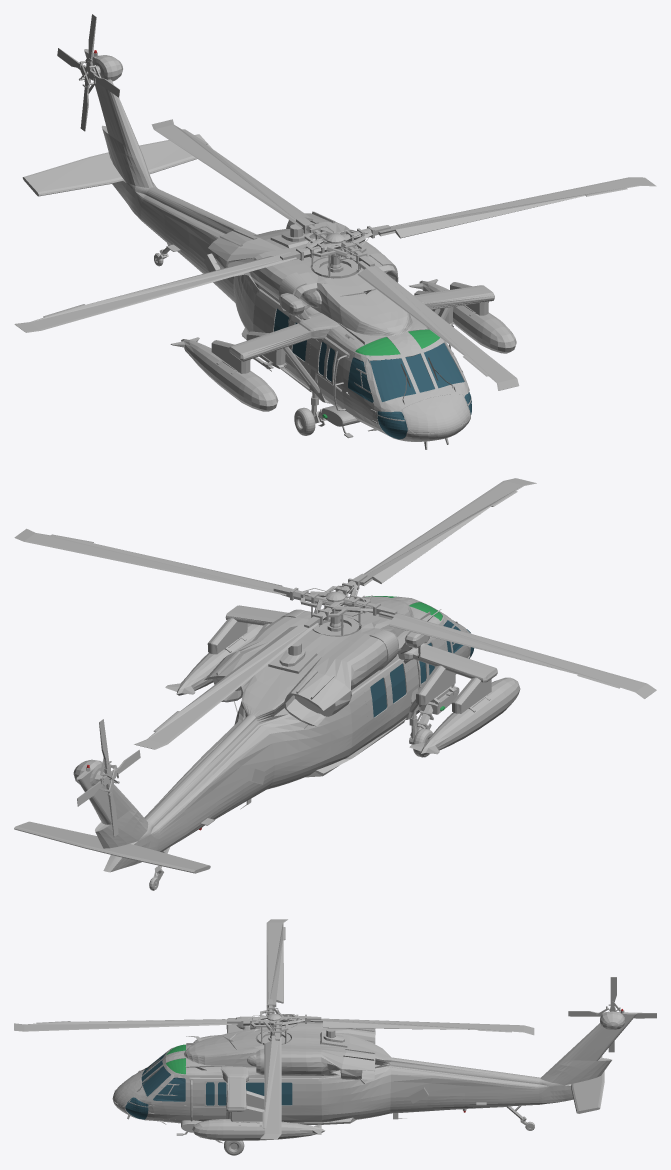
The model's file is blackhawk.fbx.
3 views of the same model, one above another, from view 1: azimuth 30°, elevation 25°; view 2: azimuth 150°, elevation 25°; view 3: azimuth 270°, elevation 25° (orthographic). The views are drawn at different scales.
Parts seen in each view (by area): view 1: fuselage, main_rotor, elevator, cabinDoor_, rear_rotor, Door_R; view 2: fuselage, main_rotor, Door_R, elevator, rear_rotor; view 3: fuselage, main_rotor, cabinDoo13, Door_L, elevator, rear_rotor.
Boxes of the visible parts, left/top/right/bottom form: fuselage: left=84, top=49, right=516, bottom=449; main_rotor: left=14, top=119, right=656, bottom=390; elevator: left=22, top=134, right=212, bottom=196; cabinDoor_: left=345, top=353, right=379, bottom=429; rear_rotor: left=57, top=14, right=119, bottom=131; Door_R: left=267, top=303, right=311, bottom=387; fuselage: left=73, top=593, right=520, bottom=885; main_rotor: left=14, top=478, right=656, bottom=749; Door_R: left=361, top=661, right=410, bottom=747; elevator: left=14, top=821, right=210, bottom=873; rear_rotor: left=77, top=719, right=140, bottom=836; fuselage: left=112, top=1009, right=637, bottom=1143; main_rotor: left=14, top=919, right=534, bottom=1139; cabinDoo13: left=149, top=1075, right=189, bottom=1120; Door_L: left=246, top=1081, right=300, bottom=1122; elevator: left=571, top=1056, right=604, bottom=1113; rear_rotor: left=568, top=977, right=656, bottom=1052.
Bounding box in the file's own units: 15.93 × 5.23 × 19.69.
